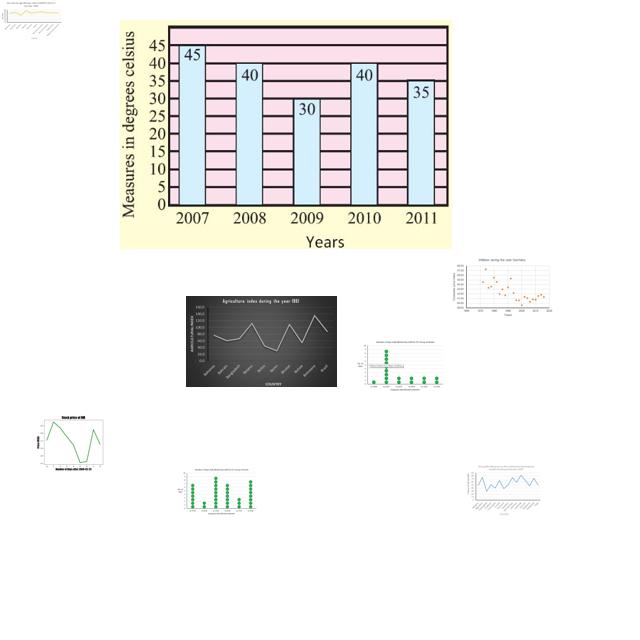Graph: (120, 20, 452, 249), (186, 296, 337, 387), (452, 257, 553, 317), (355, 339, 444, 393), (34, 413, 111, 471), (466, 464, 542, 517), (176, 468, 258, 516), (0, 1, 62, 40)
